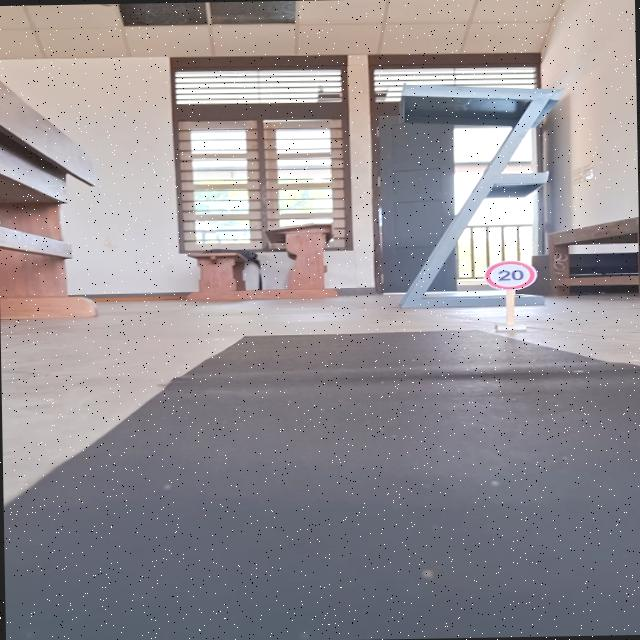Speed20: (478, 258, 539, 292)
